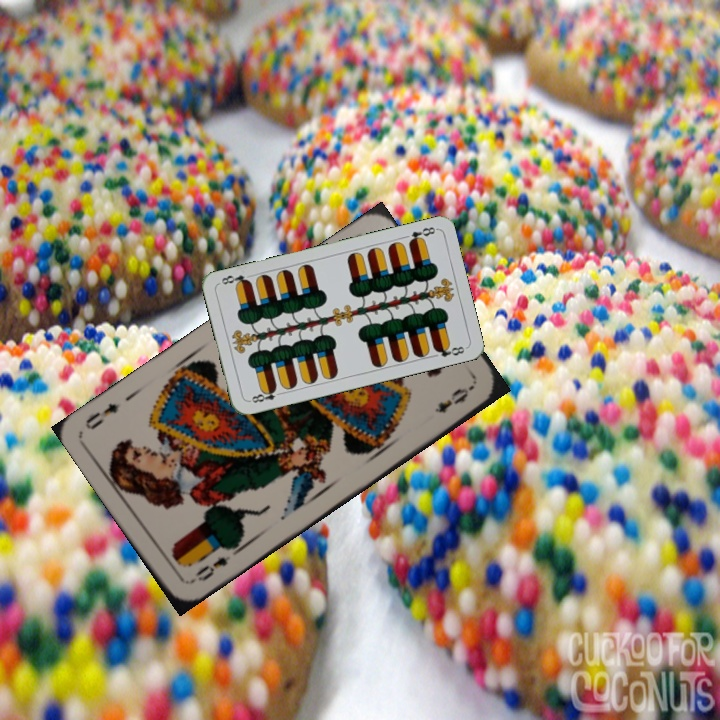E8: (245, 384, 285, 405), (404, 223, 439, 246)
EO: (186, 551, 233, 586)
